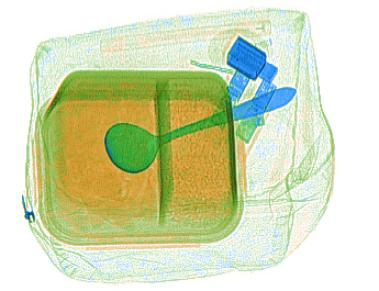USBFlashDisk: (204, 72, 249, 132), (225, 35, 279, 85), (236, 79, 276, 145)
